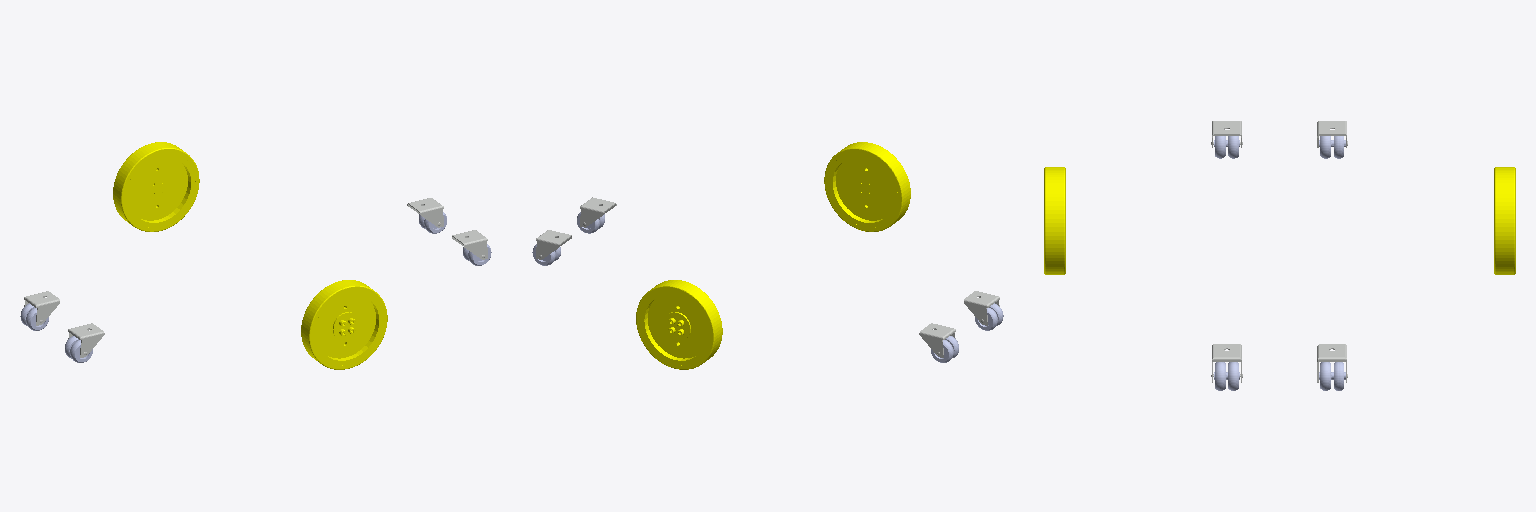
The robot description file, URDF, robot "Geek_urdf":
<?xml version="1.0" encoding="utf-8"?>
<!-- This URDF was automatically created by SolidWorks to URDF Exporter! Originally created by [author] ([email redacted]) 
     Commit Version: 1.6.0-4-g7f85cfe  Build Version: 1.6.7995.38578
     For more information, please see http://wiki.ros.org/sw_urdf_exporter -->
<robot
  name="Geek_urdf">
  <link
    name="base_link">
    <inertial>
      <origin
        xyz="0 0 0"
        rpy="0 0 0" />
      <mass
        value="69.143" />
      <inertia
        ixx="2.2154"
        ixy="-0.0025911"
        ixz="-0.014832"
        iyy="4.0964"
        iyz="-0.00019758"
        izz="6.1871" />
    </inertial>
    <visual>
      <origin
        xyz="0 0 0"
        rpy="0 0 0" />
      <geometry>
        <mesh
          filename="package://urdf_gazebo/model/meshes/base_link.STL" />
      </geometry>
      <material
        name="">
        <color
          rgba="0.79216 0.81961 0.93333 1" />
      </material>
    </visual>
    <collision>
      <origin
        xyz="0 0 0"
        rpy="0 0 0" />
      <geometry>
        <mesh
          filename="package://urdf_gazebo/model/meshes/base_link.STL" />
      </geometry>
    </collision>
  </link>
  
 <!--  <link
    name="laser_link">
    <visual>
      <origin
        xyz="0 0 0.2"
        rpy="0 0 0" />
      <geometry>
        <mesh
          filename="package://urdf_gazebo/model/meshes/LidarC1.STL" />
      </geometry>
      <material
        name="">
        <color
          rgba="1 1 0 1" />
      </material>
    </visual>
    <collision>
      <origin
        xyz="0 0 0"
        rpy="0 0 3.14" />
      <geometry>
        <mesh
          filename="package://urdf_gazebo/model/meshes/LidarC1.STL" />
      </geometry>
    </collision>
  </link>

  <joint
    name="lidar_joint"
    type="fixed">
    <origin
      xyz="0 0 0"
      rpy="0 0 0" />
    <parent
      link="base_link" />
    <child
      link="laser_link" />
    <axis
      xyz="0 0 0" />
    <limit
      effort="0"
      velocity="0" />
  </joint> --> 

  <link
    name="Wheel_left">
    <inertial>
      <origin
        xyz="-6.9389E-18 -0.0047802 -1.3878E-17"
        rpy="0 0 0" />
      <mass
        value="0.51791" />
      <inertia
        ixx="0.0013666"
        ixy="-2.4265E-19"
        ixz="7.1607E-23"
        iyy="0.0026594"
        iyz="-5.561E-20"
        izz="0.0013678" />
    </inertial>
    <visual>
      <origin
        xyz="0 0 0"
        rpy="0 0 0" />
      <geometry>
        <mesh
          filename="package://urdf_gazebo/model/meshes/Wheel_left.STL" />
      </geometry>
      <material
        name="">
        <color
          rgba="1 1 0 1" />
      </material>
    </visual>
    <collision>
      <origin
        xyz="0 0 0"
        rpy="0 0 0" />
      <geometry>
        <mesh
          filename="package://urdf_gazebo/model/meshes/Wheel_left.STL" />
      </geometry>
    </collision>
  </link>

  <joint
    name="Left_joint"
    type="continuous">
    <origin
      xyz="0.245 0.379 0.05155"
      rpy="0 0 0" />
    <parent
      link="base_link" />
    <child
      link="Wheel_left" />
    <axis
      xyz="0.0003448 1 0" />
    <limit
      effort="5"
      velocity="0.5" />
  </joint>

  <link
    name="Wheel_right">
    <inertial>
      <origin
        xyz="6.9389E-18 0.0047802 2.7756E-17"
        rpy="0 0 0" />
      <mass
        value="0.51791" />
      <inertia
        ixx="0.0013666"
        ixy="-4.6307E-20"
        ixz="-3.2396E-23"
        iyy="0.0026594"
        iyz="2.451E-19"
        izz="0.0013678" />
    </inertial>
    <visual>
      <origin
        xyz="0 0 0"
        rpy="0 0 0" />
      <geometry>
        <mesh
          filename="package://urdf_gazebo/model/meshes/Wheel_right.STL" />
      </geometry>
      <material
        name="">
        <color
          rgba="1 1 0 1" />
      </material>
    </visual>
    <collision>
      <origin
        xyz="0 0 0"
        rpy="0 0 0" />
      <geometry>
        <mesh
          filename="package://urdf_gazebo/model/meshes/Wheel_right.STL" />
      </geometry>
    </collision>
  </link>

  <joint
    name="Right_joint"
    type="continuous">
    <origin
      xyz="0.24474 -0.37815 0.051545"
      rpy="0 0 0" />
    <parent
      link="base_link" />
    <child
      link="Wheel_right" />
    <axis
      xyz="0.0003448 1 0" />
    <limit
      effort="5"
      velocity="0.5" />
  </joint>

  <link
    name="Castor_left_front">
    <inertial>
      <origin
        xyz="0.011682 6.9065E-08 -0.011757"
        rpy="0 0 0" />
      <mass
        value="0.097819" />
      <inertia
        ixx="5.055E-05"
        ixy="-1.3302E-10"
        ixz="5.3746E-06"
        iyy="3.4421E-05"
        iyz="-1.4675E-10"
        izz="5.8667E-05" />
    </inertial>
    <visual>
      <origin
        xyz="0 0 0"
        rpy="0 0 0" />
      <geometry>
        <mesh
          filename="package://urdf_gazebo/model/meshes/Castor_left_front.STL" />
      </geometry>
      <material
        name="">
        <color
          rgba="0.83137 0.83922 0.83137 1" />
      </material>
    </visual>
    <collision>
      <origin
        xyz="0 0 0"
        rpy="0 0 0" />
      <geometry>
        <mesh
          filename="package://urdf_gazebo/model/meshes/Castor_left_front.STL" />
      </geometry>
    </collision>
  </link>

  <joint
    name="Castor_joint1"
    type="continuous">
    <origin
      xyz="0.69083 0.0875 0.023042"
      rpy="0 0 0" />
    <parent
      link="base_link" />
    <child
      link="Castor_left_front" />
    <axis
      xyz="0 0 1" />
    <limit
      effort="1"
      velocity="0.01" />
  </joint>

  <link
    name="Castor_wl_front">
    <inertial>
      <origin
        xyz="-5.55111512312578E-17 5.20417042793042E-17 -5.55111512312578E-17"
        rpy="0 0 0" />
      <mass
        value="0.399005501589666" />
      <inertia
        ixx="7.40208573605513E-05"
        ixy="-5.20390492817656E-21"
        ixz="2.46497201431217E-21"
        iyy="0.000130391911715417"
        iyz="-3.11348165360462E-22"
        izz="7.40208573605512E-05" />
    </inertial>
    <visual>
      <origin
        xyz="0 0 0"
        rpy="0 0 0" />
      <geometry>
        <mesh
          filename="package://urdf_gazebo/model/meshes/Castor_wl_front.STL" />
      </geometry>
      <material
        name="">
        <color
          rgba="0.792156862745098 0.819607843137255 0.933333333333333 1" />
      </material>
    </visual>
    <collision>
      <origin
        xyz="0 0 0"
        rpy="0 0 0" />
      <geometry>
        <mesh
          filename="package://urdf_gazebo/model/meshes/Castor_wl_front.STL" />
      </geometry>
    </collision>
  </link>

  <joint
    name="Castor_w1_joint"
    type="continuous">
    <origin
      xyz="0.023131 0 -0.0365"
      rpy="0 0 0" />
    <parent
      link="Castor_left_front" />
    <child
      link="Castor_wl_front" />
    <axis
      xyz="0 1 0" />
    <limit
      effort="5"
      velocity="0.1" />
  </joint>

  <link
    name="Castor_right_front">
    <inertial>
      <origin
        xyz="0.0116818994718002 6.90648813139738E-08 -0.0127572288269465"
        rpy="0 0 0" />
      <mass
        value="0.0978189642093395" />
      <inertia
        ixx="5.05495845715848E-05"
        ixy="-1.3302210269777E-10"
        ixz="5.37462531907201E-06"
        iyy="3.44210732908008E-05"
        iyz="-1.46748010554722E-10"
        izz="5.86667794924083E-05" />
    </inertial>
    <visual>
      <origin
        xyz="0 0 0"
        rpy="0 0 0" />
      <geometry>
        <mesh
          filename="package://urdf_gazebo/model/meshes/Castor_right_front.STL" />
      </geometry>
      <material
        name="">
        <color
          rgba="0.831372549019608 0.83921568627451 0.831372549019608 1" />
      </material>
    </visual>
    <collision>
      <origin
        xyz="0 0 0"
        rpy="0 0 0" />
      <geometry>
        <mesh
          filename="package://urdf_gazebo/model/meshes/Castor_right_front.STL" />
      </geometry>
    </collision>
  </link>

  <joint
    name="Castor_joint2"
    type="continuous">
    <origin
      xyz="0.69083 -0.0875 0.024042"
      rpy="0 0 0" />
    <parent
      link="base_link" />
    <child
      link="Castor_right_front" />
    <axis
      xyz="0 0 1" />
    <limit
      effort="1"
      velocity="0.01" />
  </joint>

  <link
    name="Castor_wr_front">
    <inertial>
      <origin
        xyz="0 -1.11022302462516E-16 -2.77555756156289E-17"
        rpy="0 0 0" />
      <mass
        value="0.399005501589666" />
      <inertia
        ixx="7.40208573605464E-05"
        ixy="-5.10935611621134E-21"
        ixz="2.50926908707804E-21"
        iyy="0.000130391911715417"
        iyz="-1.30581778499624E-21"
        izz="7.40208573605464E-05" />
    </inertial>
    <visual>
      <origin
        xyz="0 0 0"
        rpy="0 0 0" />
      <geometry>
        <mesh
          filename="package://urdf_gazebo/model/meshes/Castor_wr_front.STL" />
      </geometry>
      <material
        name="">
        <color
          rgba="0.792156862745098 0.819607843137255 0.933333333333333 1" />
      </material>
    </visual>
    <collision>
      <origin
        xyz="0 0 0"
        rpy="0 0 0" />
      <geometry>
        <mesh
          filename="package://urdf_gazebo/model/meshes/Castor_wr_front.STL" />
      </geometry>
    </collision>
  </link>

  <joint
    name="Castor_w2_joint"
    type="continuous">
    <origin
      xyz="0.023131 0 -0.0375"
      rpy="0 0 0" />
    <parent
      link="Castor_right_front" />
    <child
      link="Castor_wr_front" />
    <axis
      xyz="0 1 0" />
    <limit
      effort="5"
      velocity="0.1" />
  </joint>

  <link
    name="Castor_left_back">
    <inertial>
      <origin
        xyz="-0.0116818994717527 -6.90649586167214E-08 -0.0117572288269669"
        rpy="0 0 0" />
      <mass
        value="0.0978189642089985" />
      <inertia
        ixx="5.05495845714093E-05"
        ixy="-1.33022221774894E-10"
        ixz="-5.37462531909635E-06"
        iyy="3.44210732907111E-05"
        iyz="1.46748047896154E-10"
        izz="5.86667794921614E-05" />
    </inertial>
    <visual>
      <origin
        xyz="0 0 0"
        rpy="0 0 0" />
      <geometry>
        <mesh
          filename="package://urdf_gazebo/model/meshes/Castor_left_back.STL" />
      </geometry>
      <material
        name="">
        <color
          rgba="0.831372549019608 0.83921568627451 0.831372549019608 1" />
      </material>
    </visual>
    <collision>
      <origin
        xyz="0 0 0"
        rpy="0 0 0" />
      <geometry>
        <mesh
          filename="package://urdf_gazebo/model/meshes/Castor_left_back.STL" />
      </geometry>
    </collision>
  </link>

  <joint
    name="Castor_joint3"
    type="continuous">
    <origin
      xyz="-0.1755 0.0875 0.023042"
      rpy="0 0 0" />
    <parent
      link="base_link" />
    <child
      link="Castor_left_back" />
    <axis
      xyz="0 0 1" />
    <limit
      effort="1"
      velocity="0.01" />
  </joint>

  <link
    name="Castor_wl_back">
    <inertial>
      <origin
        xyz="-5.55111512312578E-17 2.70616862252382E-16 5.55111512312578E-17"
        rpy="0 0 0" />
      <mass
        value="0.399005501589666" />
      <inertia
        ixx="7.40208573605609E-05"
        ixy="-3.97201132329984E-19"
        ixz="2.02103386869361E-23"
        iyy="0.000130391911715417"
        iyz="7.76898286225277E-22"
        izz="7.40208573605609E-05" />
    </inertial>
    <visual>
      <origin
        xyz="0 0 0"
        rpy="0 0 0" />
      <geometry>
        <mesh
          filename="package://urdf_gazebo/model/meshes/Castor_wl_back.STL" />
      </geometry>
      <material
        name="">
        <color
          rgba="0.792156862745098 0.819607843137255 0.933333333333333 1" />
      </material>
    </visual>
    <collision>
      <origin
        xyz="0 0 0"
        rpy="0 0 0" />
      <geometry>
        <mesh
          filename="package://urdf_gazebo/model/meshes/Castor_wl_back.STL" />
      </geometry>
    </collision>
  </link>

  <joint
    name="Castor_w3_joint"
    type="continuous">
    <origin
      xyz="-0.023131 0 -0.0365"
      rpy="0 0 0" />
    <parent
      link="Castor_left_back" />
    <child
      link="Castor_wl_back" />
    <axis
      xyz="0 1 0" />
    <limit
      effort="5"
      velocity="0.1" />
  </joint>

  <link
    name="Castor_right_back">
    <inertial>
      <origin
        xyz="-0.0116818994718001 -6.90648816192851E-08 -0.0117572288269466"
        rpy="0 0 0" />
      <mass
        value="0.0978189642093409" />
      <inertia
        ixx="5.05495845715853E-05"
        ixy="-1.33022102555175E-10"
        ixz="-5.37462531907196E-06"
        iyy="3.4421073290801E-05"
        iyz="1.46748010772135E-10"
        izz="5.8666779492409E-05" />
    </inertial>
    <visual>
      <origin
        xyz="0 0 0"
        rpy="0 0 0" />
      <geometry>
        <mesh
          filename="package://urdf_gazebo/model/meshes/Castor_right_back.STL" />
      </geometry>
      <material
        name="">
        <color
          rgba="0.831372549019608 0.83921568627451 0.831372549019608 1" />
      </material>
    </visual>
    <collision>
      <origin
        xyz="0 0 0"
        rpy="0 0 0" />
      <geometry>
        <mesh
          filename="package://urdf_gazebo/model/meshes/Castor_right_back.STL" />
      </geometry>
    </collision>
  </link>

  <joint
    name="Castor_joint4"
    type="continuous">
    <origin
      xyz="-0.1755 -0.0875 0.023042"
      rpy="0 0 0" />
    <parent
      link="base_link" />
    <child
      link="Castor_right_back" />
    <axis
      xyz="0 0 1" />
    <limit
      effort="1"
      velocity="0.01" />
  </joint>

  <link
    name="Castor_wr_back">
    <inertial>
      <origin
        xyz="0 1.94289029309402E-16 5.55111512312578E-17"
        rpy="0 0 0" />
      <mass
        value="0.399005501589666" />
      <inertia
        ixx="7.40208573605554E-05"
        ixy="-3.97357378475927E-19"
        ixz="-1.73276773568414E-22"
        iyy="0.000130391911715417"
        iyz="3.10633118541421E-22"
        izz="7.40208573605554E-05" />
    </inertial>
    <visual>
      <origin
        xyz="0 0 0"
        rpy="0 0 0" />
      <geometry>
        <mesh
          filename="package://urdf_gazebo/model/meshes/Castor_wr_back.STL" />
      </geometry>
      <material
        name="">
        <color
          rgba="0.792156862745098 0.819607843137255 0.933333333333333 1" />
      </material>
    </visual>
    <collision>
      <origin
        xyz="0 0 0"
        rpy="0 0 0" />
      <geometry>
        <mesh
          filename="package://urdf_gazebo/model/meshes/Castor_wr_back.STL" />
      </geometry>
    </collision>
  </link>

  <joint
    name="Castor_w4_joint"
    type="continuous">
    <origin
      xyz="-0.023131 0 -0.0365"
      rpy="0 0 0" />
    <parent
      link="Castor_right_back" />
    <child
      link="Castor_wr_back" />
    <axis
      xyz="0 1 0" />
    <limit
      effort="5"
      velocity="0.1" />
  </joint>

<gazebo reference="Castor_left_front">  
    <material>Gazebo/Black</material>

     
    <mu1 value ="0.05"/>
    <mu2 value = "0.045"/>

    <kp value = "1000" />
    <kd value = "100"/>
</gazebo>

<gazebo reference="Castor_right_front">  
    <material>Gazebo/Black</material>

     
    <mu1 value ="0.05"/>
    <mu2 value = "0.045"/>

    <kp value = "1000" />
    <kd value = "100"/>
</gazebo>

<gazebo reference="Castor_left_back">  
    <material>Gazebo/Black</material>

     
    <mu1 value ="0.05"/>
    <mu2 value = "0.045"/>

    <kp value = "1000" />
    <kd value = "100"/>
</gazebo>

<gazebo reference="Castor_right_back">  
    <material>Gazebo/Black</material>

     
    <mu1 value ="0.05"/>
    <mu2 value = "0.045"/>

    <kp value = "1000" />
    <kd value = "100"/>
</gazebo> 
  
<gazebo reference="Wheel_left">  
<material>Gazebo/YellowGlow</material>
</gazebo>

<gazebo reference="Wheel_right">  
<material>Gazebo/YellowGlow</material>
</gazebo>  

    <gazebo>
    
      <plugin filename="libgazebo_ros_diff_drive.so" name="differential_drive_controller">
          <alwaysOn>true</alwaysOn>
          <updateRate>60</updateRate>
          <leftJoint>Left_joint</leftJoint>
          <rightJoint>Right_joint</rightJoint>
          <wheelSeparation>0.758</wheelSeparation>
          <wheelDiameter>0.18</wheelDiameter>
          <torque>6</torque>
          <commandTopic>cmd_vel</commandTopic>
          <odometryTopic>odom</odometryTopic>
          <odometryFrame>odom</odometryFrame>
          <robotBaseFrame>base_link</robotBaseFrame>
      </plugin>
      </gazebo>

</robot>

--- Render facts (derived) ---
Views: 3 orthographic renders of the robot side by side, from view 1: azimuth 30°, elevation 25°; view 2: azimuth 150°, elevation 25°; view 3: azimuth 270°, elevation 25°.
Model Geek_urdf with 11 links and 10 joints (10 continuous), rooted at base_link, posed all joints at 0.
Links seen in each view (by area): view 1: Wheel_left, Wheel_right, Castor_right_back, Castor_left_back, Castor_left_front, Castor_right_front; view 2: Wheel_left, Wheel_right, Castor_left_back, Castor_right_back, Castor_right_front, Castor_left_front; view 3: Wheel_left, Wheel_right, Castor_wr_front, Castor_wl_front, Castor_left_front, Castor_right_front.
Link boxes in pixels (<box>): Wheel_left: <box>113,142,199,231</box>; Wheel_right: <box>301,280,387,369</box>; Castor_right_back: <box>68,323,104,357</box>; Castor_left_back: <box>24,291,59,325</box>; Castor_left_front: <box>407,198,443,227</box>; Castor_right_front: <box>452,230,487,259</box>; Wheel_left: <box>636,280,722,369</box>; Wheel_right: <box>824,142,910,231</box>; Castor_left_back: <box>919,323,955,357</box>; Castor_right_back: <box>964,291,999,325</box>; Castor_right_front: <box>580,197,616,227</box>; Castor_left_front: <box>536,230,571,259</box>; Wheel_left: <box>1494,167,1515,274</box>; Wheel_right: <box>1044,167,1065,274</box>; Castor_wr_front: <box>1214,362,1239,390</box>; Castor_wl_front: <box>1319,362,1345,390</box>; Castor_left_front: <box>1317,344,1347,382</box>; Castor_right_front: <box>1211,344,1242,382</box>.
Size in the robot's own frame: 0.9625 by 0.7822 by 0.1799 metres.
Meshes: 11 distinct files referenced, 10 mesh visuals loaded (10 binary STL); not drawn: 1 (reference not matched to a file when rendering).
